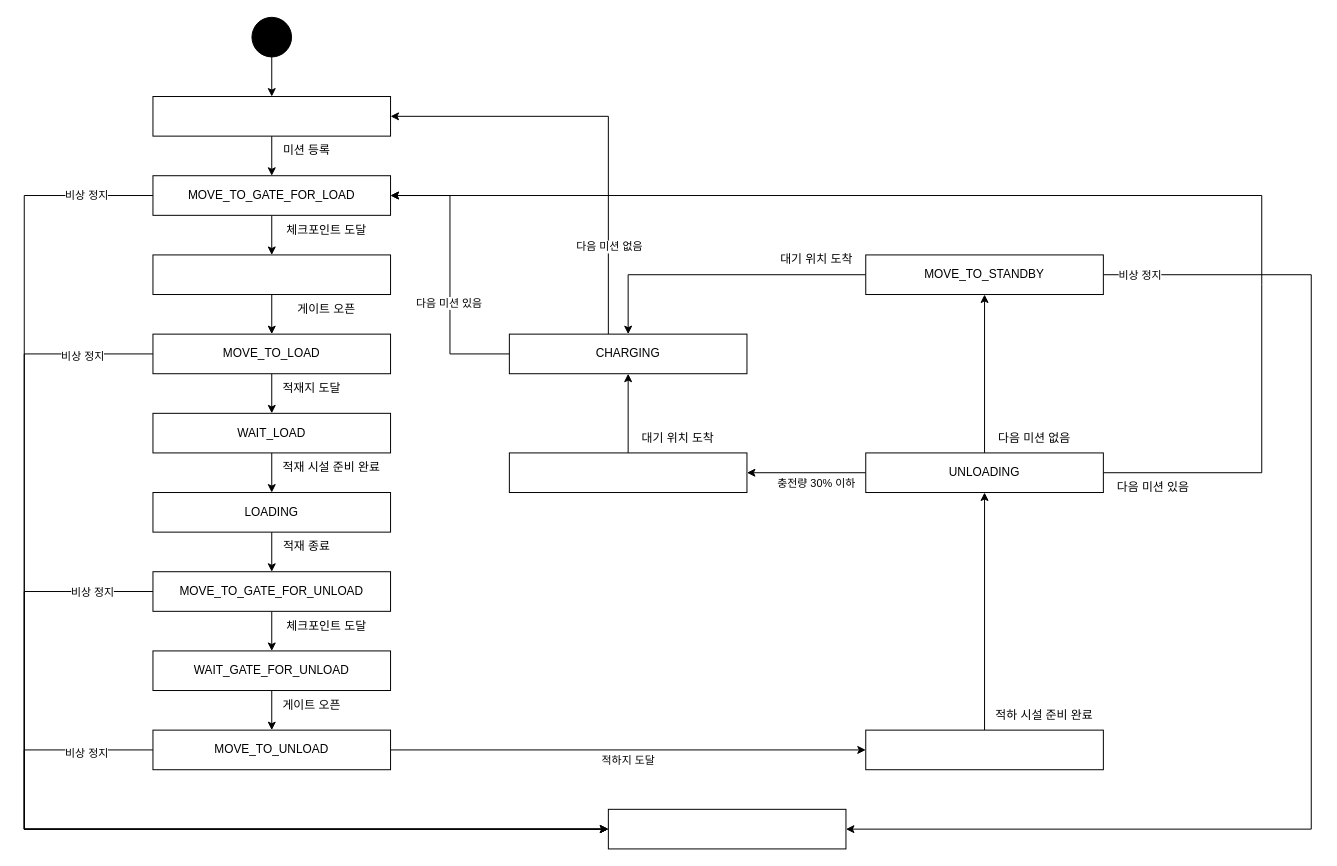
The diagram is 1337 pixels wide and 866 high, and some of its shapes have lost their labels. The shapes that lost their labels are listed below. From the top down, each one's centre as x and y in pixels, then its label:
the point at 271,116: IDLE
the point at 271,274: WAIT_GATE_FOR_LOAD
the point at 627,472: MOVE_TO_CHARGER
the point at 984,749: WAIT_UNLOAD
the point at 726,828: EMERGENCY_STOP
